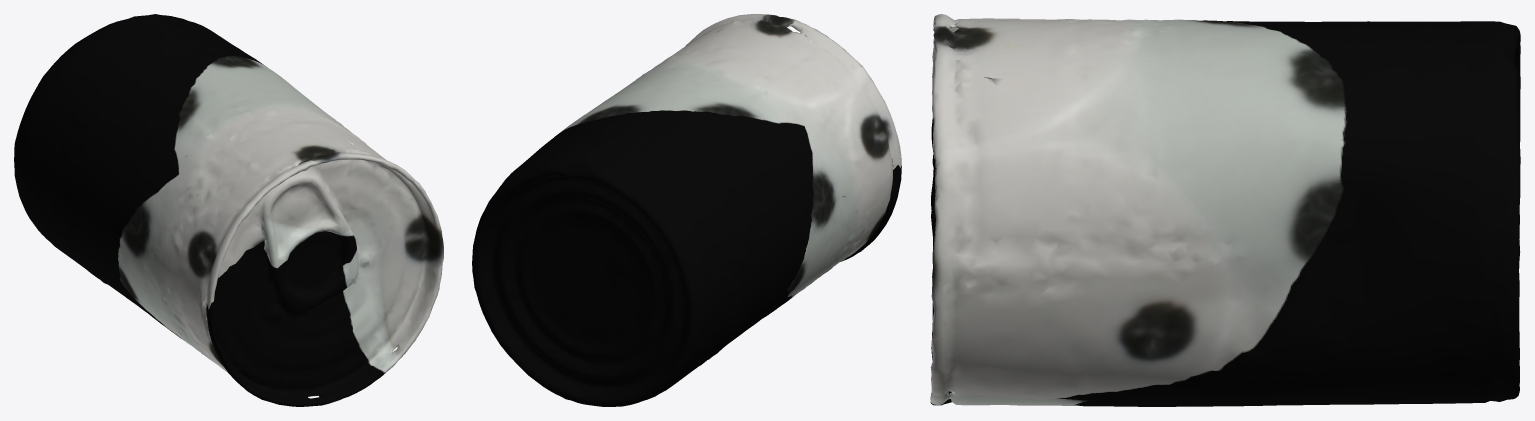
3 views of the same model, side by side, from view 1: azimuth 30°, elevation 25°; view 2: azimuth 150°, elevation 25°; view 3: azimuth 270°, elevation 25° (orthographic). The views are drawn at different scales.
Visible parts, largest first — view 1: textured.004; view 2: textured.004; view 3: textured.004.
Part boxes in pixels (x1,y1,x2,y2): textured.004: (14,14,443,406); textured.004: (472,14,901,406); textured.004: (930,14,1520,406).
Bounding box in the file's own units: 0.0677 × 0.0679 × 0.1019.
